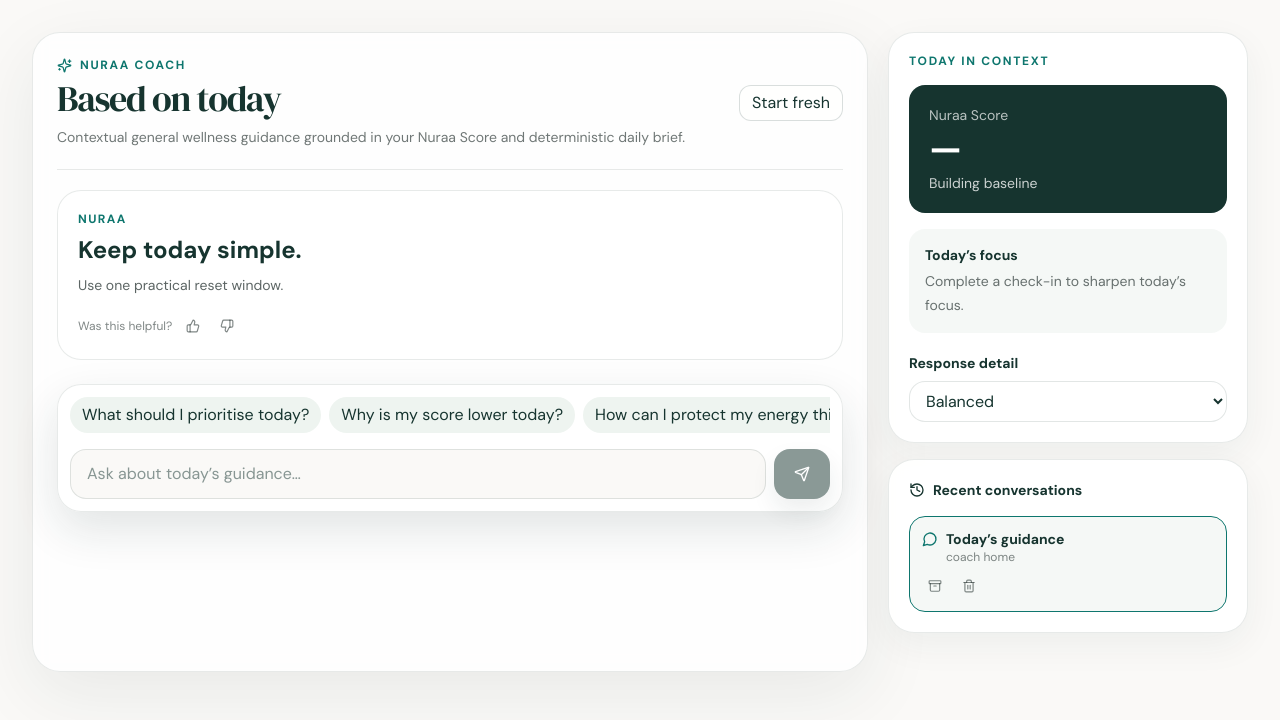
Scenario: CoachPage access and consent › starts a fresh Coach conversation only once
This screenshot has width=1280, height=720.
Expected: the heading "Keep today simple." is shown, top-left (78, 234), bottom-right (302, 265)
What coordinates should you click on to do the following:
click the button "Start fresh"
I would click on:
 (791, 103)
Its box is top-left (739, 85), bottom-right (843, 121).
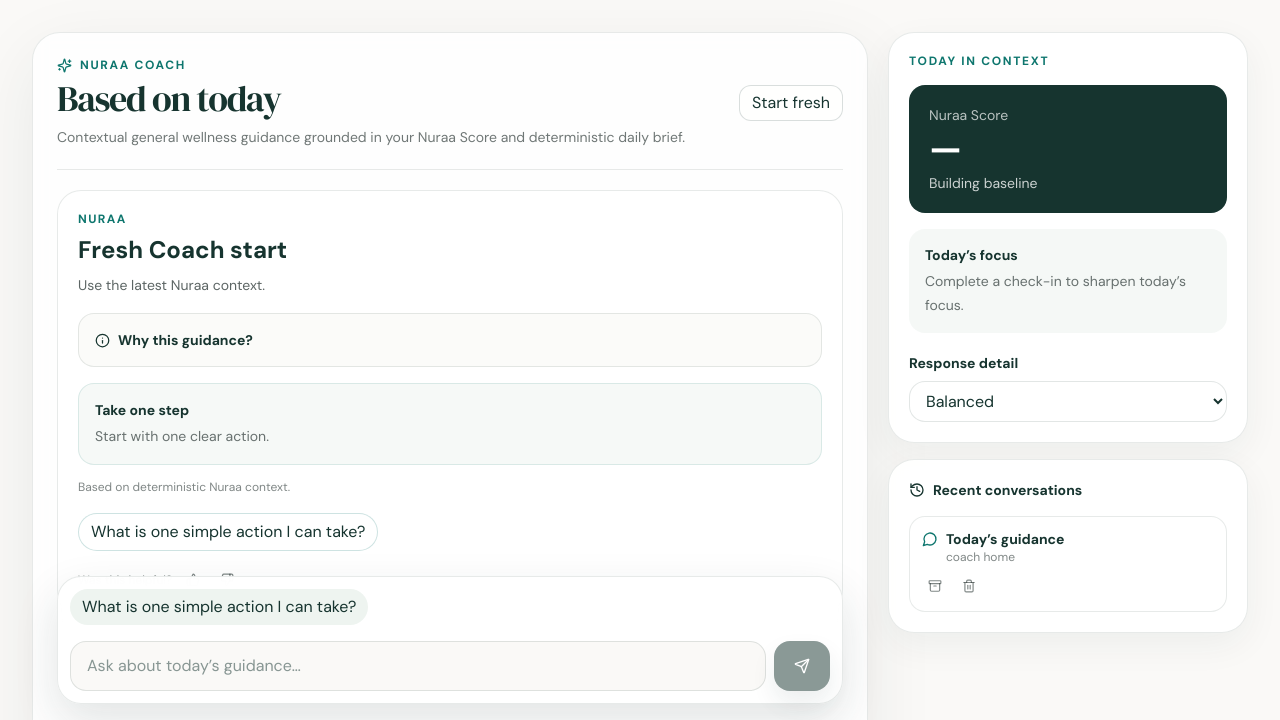
Expected: the heading "Fresh Coach start" is shown, top-left (78, 234), bottom-right (287, 265)
